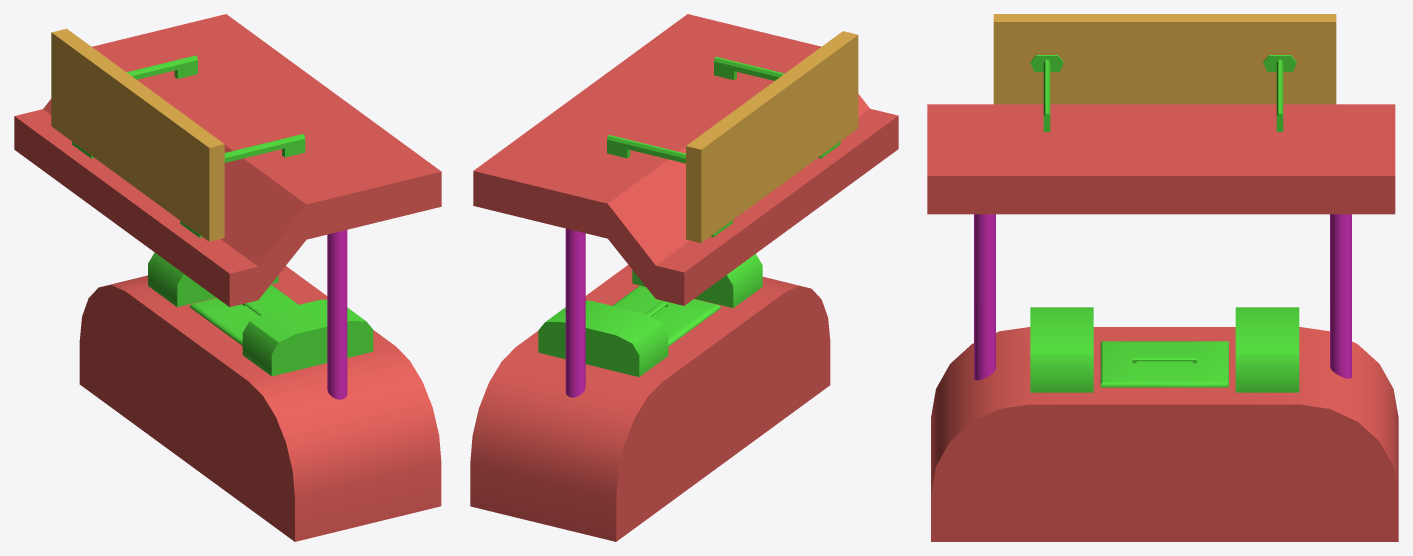
The model's file is StandHeladeria.fbx.
The picture shows the model from 3 angles, left to right: view 1: azimuth 30°, elevation 25°; view 2: azimuth 150°, elevation 25°; view 3: azimuth 270°, elevation 25°; orthographic projection. The views are drawn at different scales.
Visible parts, largest first — view 1: Cube.017; view 2: Cube.017; view 3: Cube.017.
Part boxes in pixels (x1,y1,x2,y2): Cube.017: (14, 14, 441, 541); Cube.017: (470, 14, 898, 541); Cube.017: (927, 14, 1398, 541).
Bounding box in the file's own units: 417 × 722 × 733.
